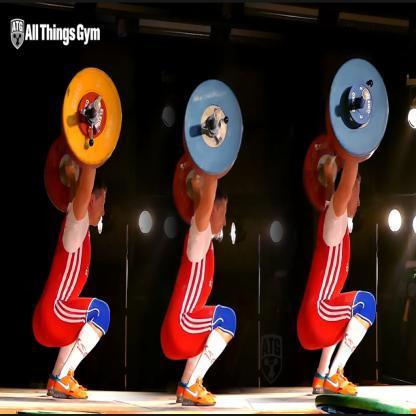barbell: (302, 57, 391, 212), (42, 65, 124, 213), (172, 79, 244, 227)
